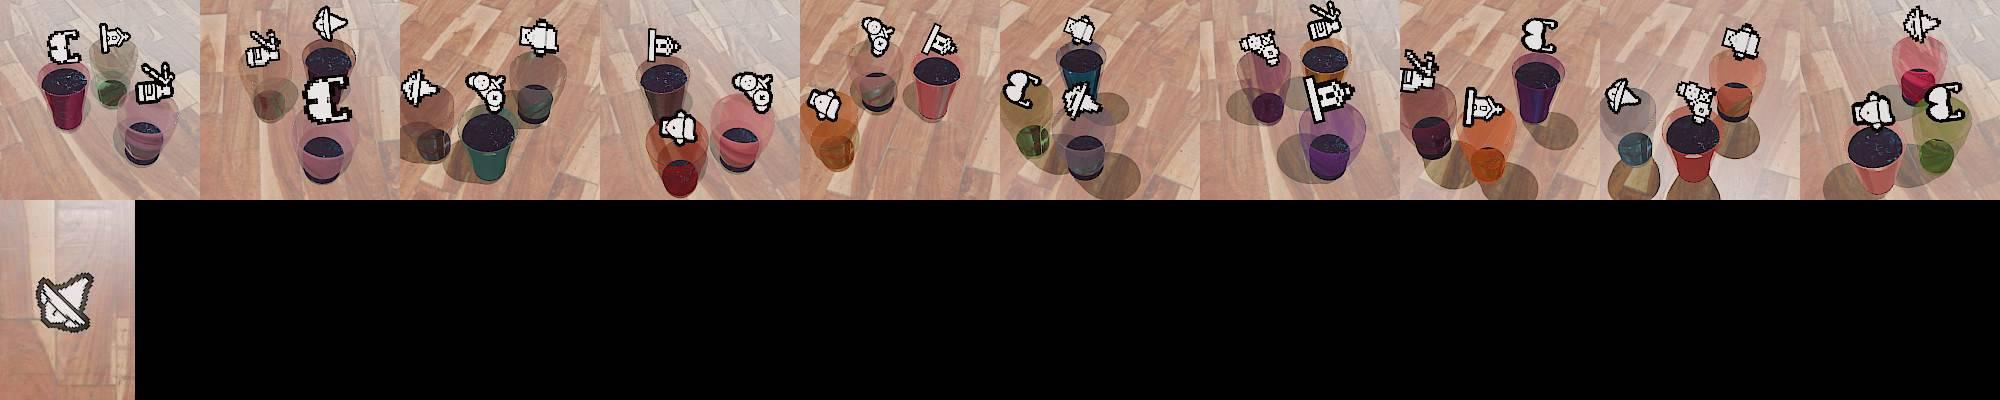icon: (33, 273, 96, 335), (1301, 73, 1353, 122), (302, 76, 353, 124), (732, 70, 776, 116), (136, 60, 177, 107), (1849, 89, 1897, 130), (1923, 80, 1967, 124), (1676, 80, 1718, 124), (464, 71, 508, 113), (1399, 48, 1440, 93), (518, 18, 561, 59), (1240, 28, 1282, 69), (1463, 87, 1506, 126), (1003, 69, 1042, 111), (401, 68, 443, 107), (1306, 0, 1344, 42), (245, 27, 283, 69), (1061, 82, 1101, 121), (658, 108, 700, 145), (1519, 17, 1559, 55), (1721, 23, 1761, 60), (860, 17, 897, 57), (1902, 6, 1940, 45), (1605, 76, 1643, 115), (46, 28, 83, 66), (647, 27, 682, 65), (921, 22, 958, 57), (312, 5, 349, 41), (806, 88, 843, 122), (1064, 14, 1097, 48), (98, 23, 130, 55)
